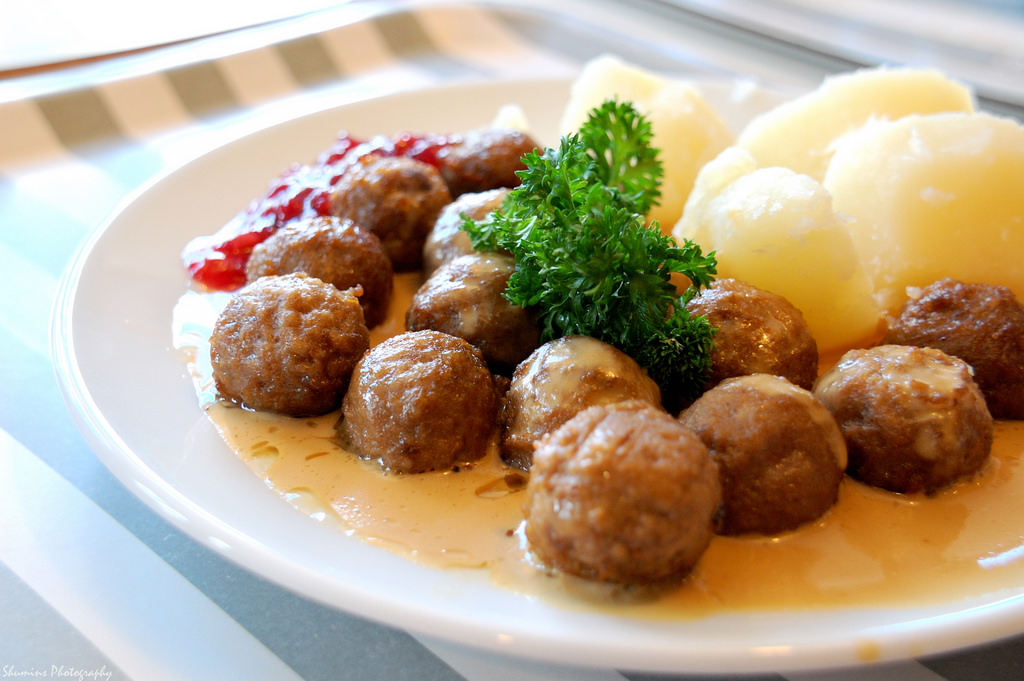boiled potatoes: (663, 88, 1017, 263)
meatballs: (211, 278, 470, 442), (527, 358, 696, 581), (683, 386, 991, 501)
